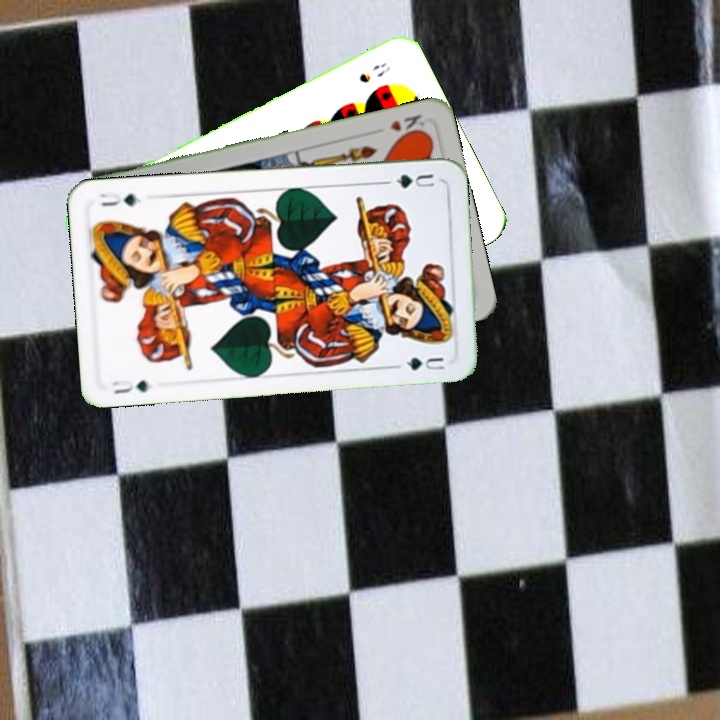GU: (382, 169, 437, 191), (108, 375, 152, 396)
HK: (385, 110, 428, 140)
S8: (354, 59, 393, 86)
